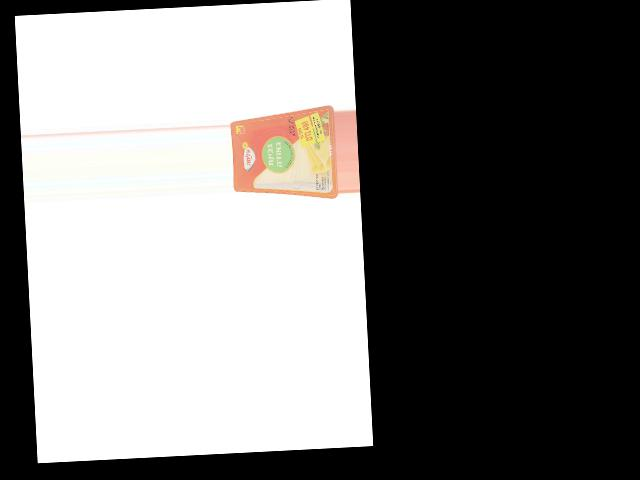cheese: (230, 104, 339, 203)
